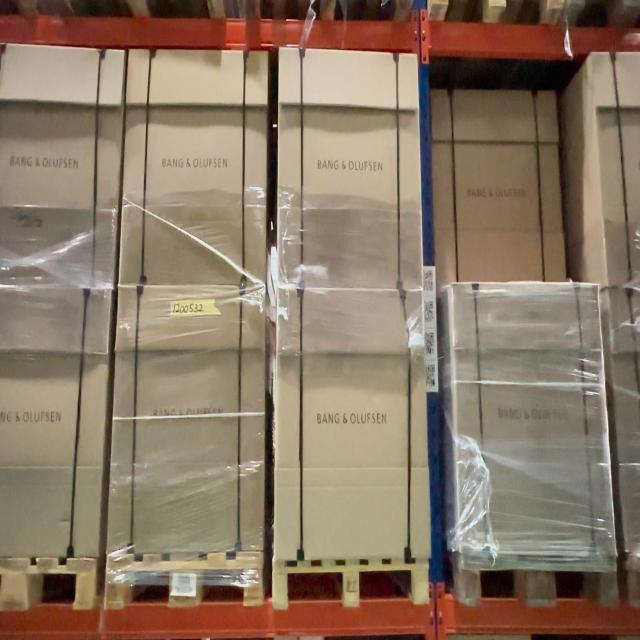box: (279, 290, 422, 560), (458, 286, 597, 556), (119, 288, 262, 550), (128, 52, 266, 282), (279, 54, 416, 282), (436, 93, 554, 281)
